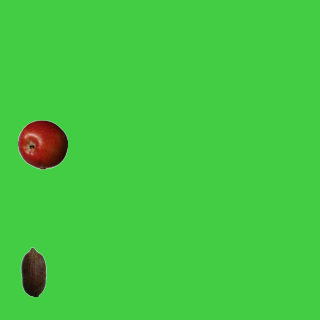Apple Braeburn: (17, 119, 67, 169)
Nut Pecan: (8, 246, 58, 296)
